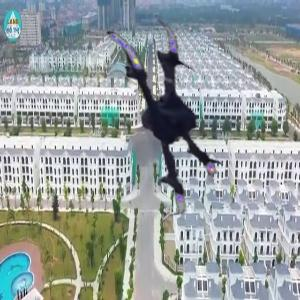drone: (53, 23, 246, 216)
